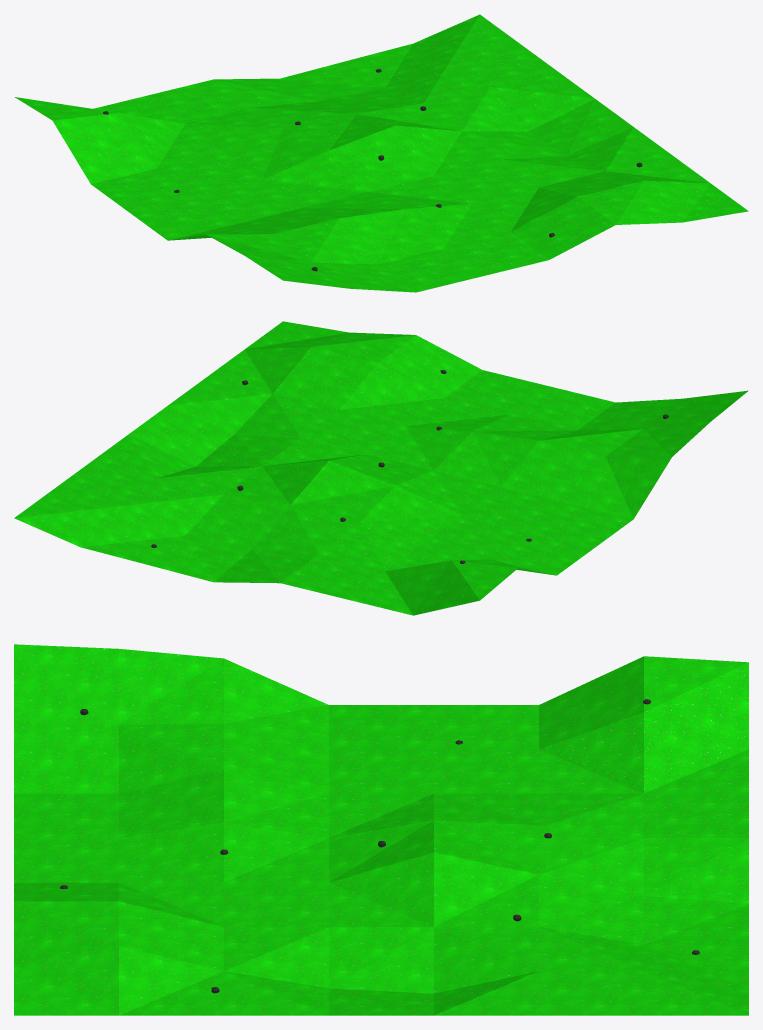
File: ground.obj
3 renders of one model, top to bottom at view 1: azimuth 30°, elevation 25°; view 2: azimuth 150°, elevation 25°; view 3: azimuth 270°, elevation 25°, orthographic. The views are drawn at different scales.
Parts seen in each view (by area): view 1: 平面; view 2: 平面; view 3: 平面.
Part boxes in pixels (left/top/right/bottom): 平面: left=14, top=14, right=748, bottom=292; 平面: left=14, top=321, right=748, bottom=615; 平面: left=14, top=644, right=748, bottom=1015.
Size of the model in its own units: 2509 by 313 by 2509.
2 materials, 1 textured.
